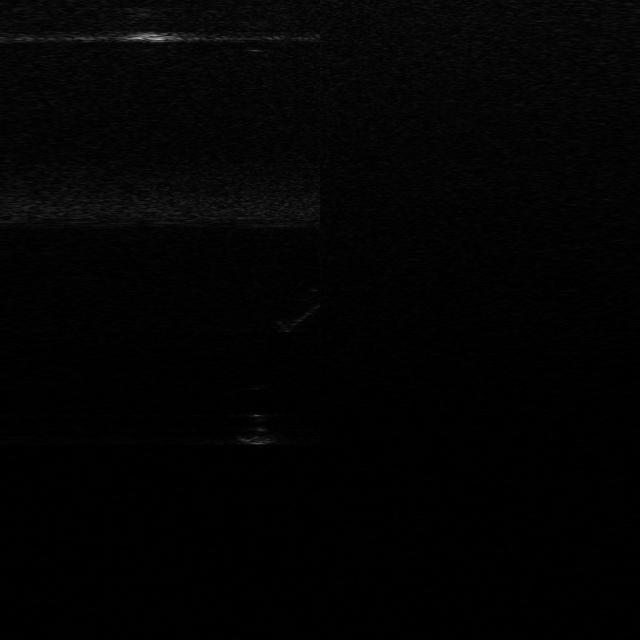ball: (231, 412, 283, 446)
tyre: (272, 295, 327, 333)
